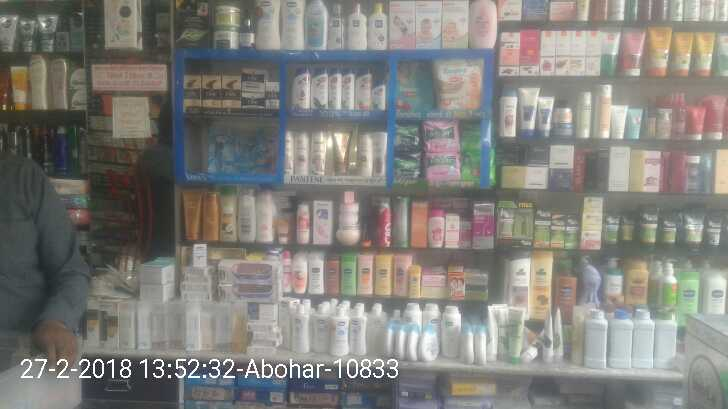venus: (251, 128, 275, 173), (209, 128, 233, 173), (233, 128, 251, 173)
